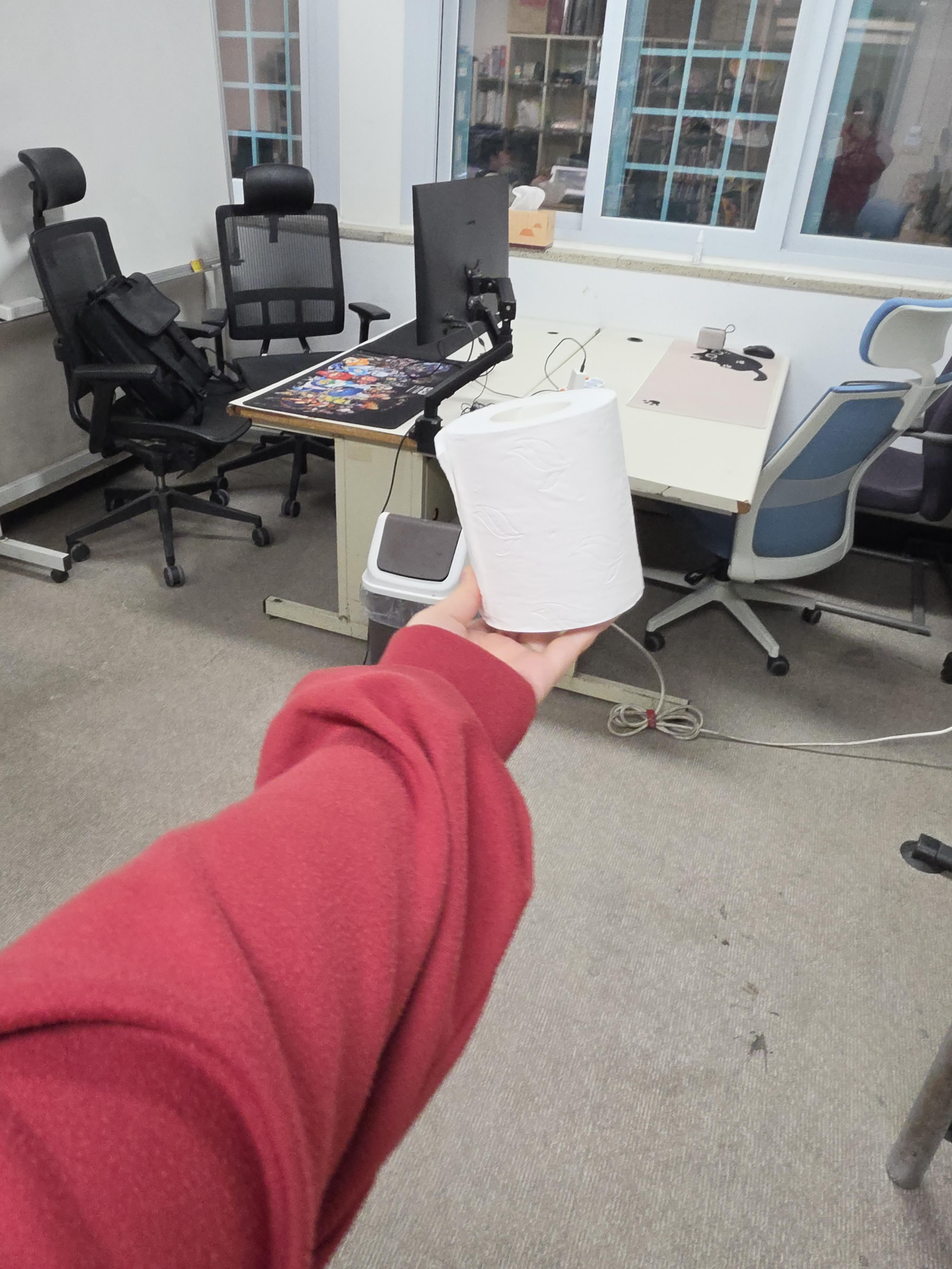tissue: (434, 387, 645, 633), (508, 184, 557, 249)
